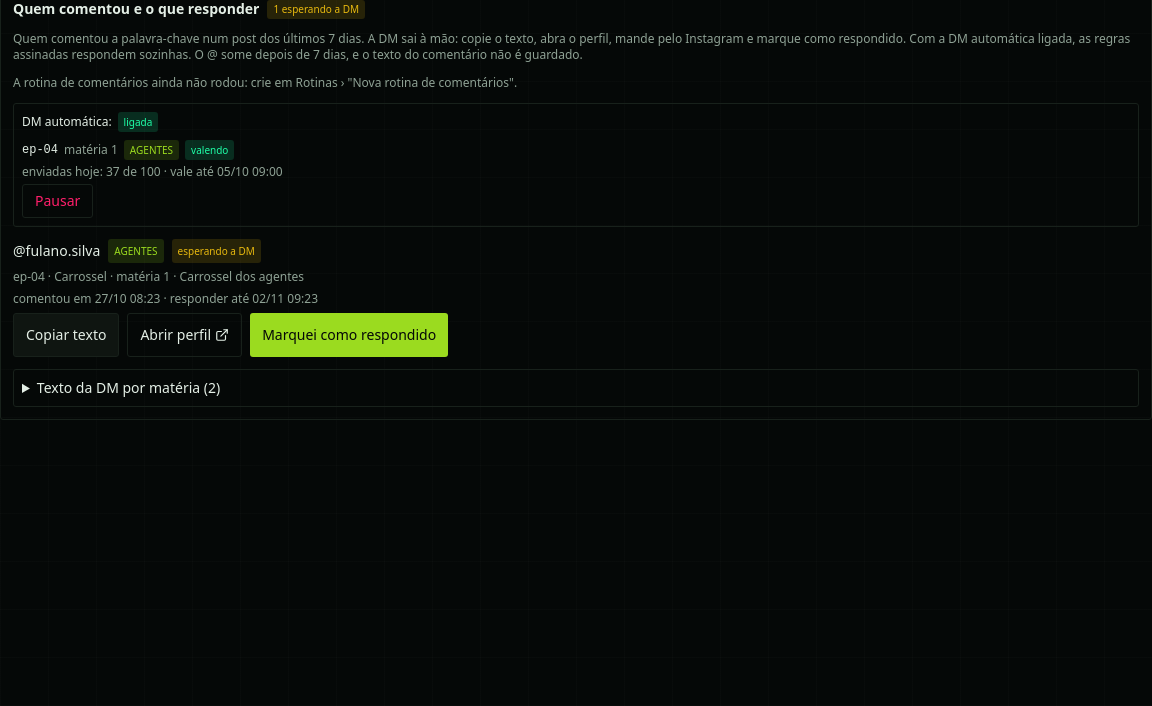
Test: MD11: a DM automática na fila de comentários › o texto da matéria com a regra assinada avisa que salvar outro a tira do lote; o da matéria sem regra, não
The width and height of the screenshot is (1152, 706).
What coordinates should you click on to do the following:
click the heading "Texto da DM por matéria (2)"
I would click on:
 (128, 388)
Its box is [37,378,220,397].
(page scrolled)
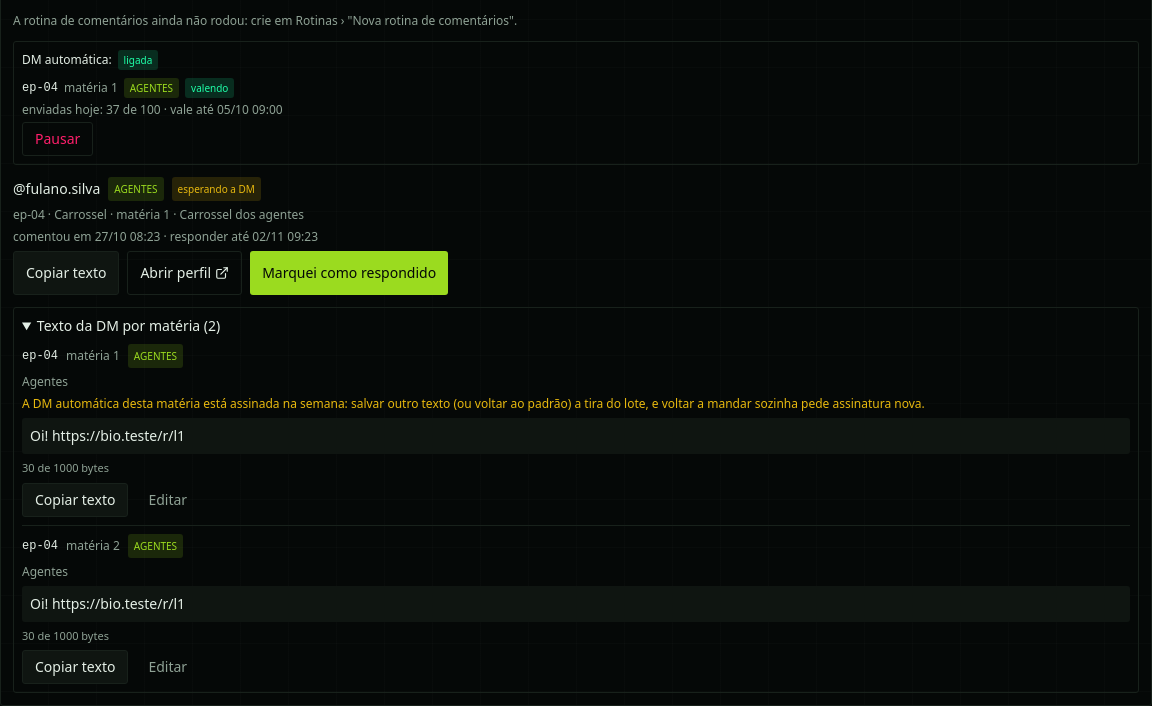
expect the list item with aria-label "Texto da DM de ep-04 matéria 2" does not show "está assinada na semana": met, box [22,524,1130,684]
expect the list item with aria-label "Texto da DM de ep-04 matéria 1" shows "A DM automática desta matéria está assinada na semana: salvar outro texto (ou voltar ao padrão) a tira do lote": met, box [22,395,925,412]
